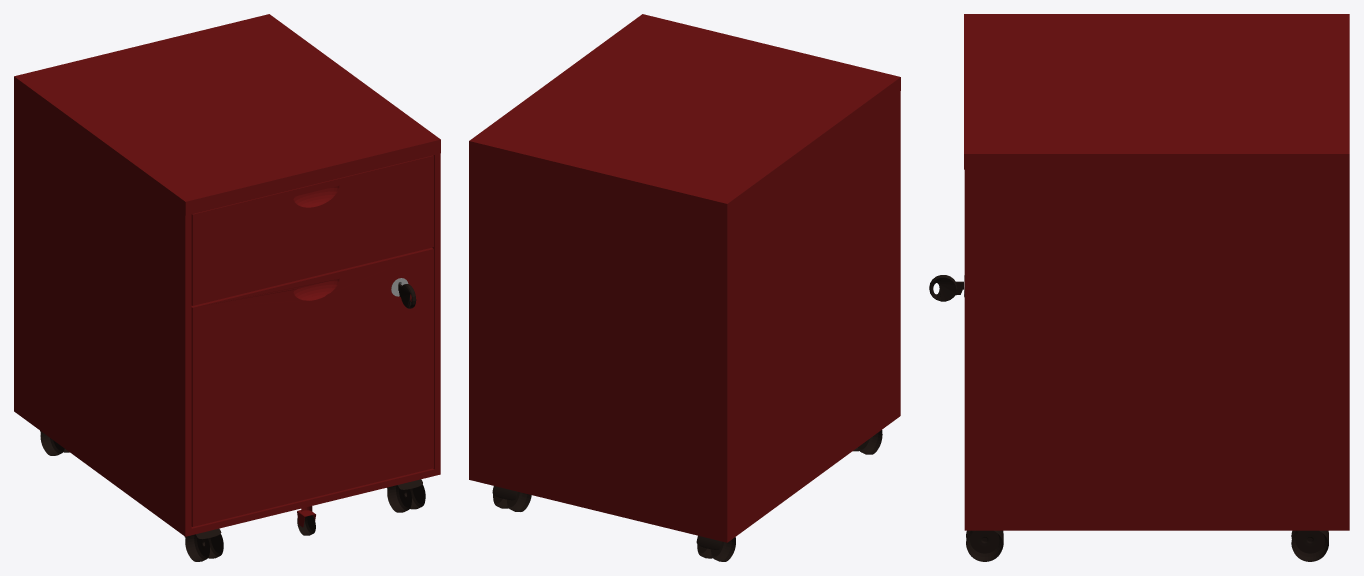
File: IKEA-Erik_Drawer_Lockable-3D.obj
3 views of the same model, side by side, from view 1: azimuth 30°, elevation 25°; view 2: azimuth 150°, elevation 25°; view 3: azimuth 270°, elevation 25° (orthographic). The views are drawn at different scales.
Visible parts, largest first — view 1: Layer_0; view 2: Layer_0; view 3: Layer_0.
Part boxes in pixels (x1,y1,x2,y2): Layer_0: (14, 14, 440, 561); Layer_0: (469, 14, 900, 561); Layer_0: (929, 14, 1349, 561).
Bounding box in the file's own units: 410 × 570 × 520.
